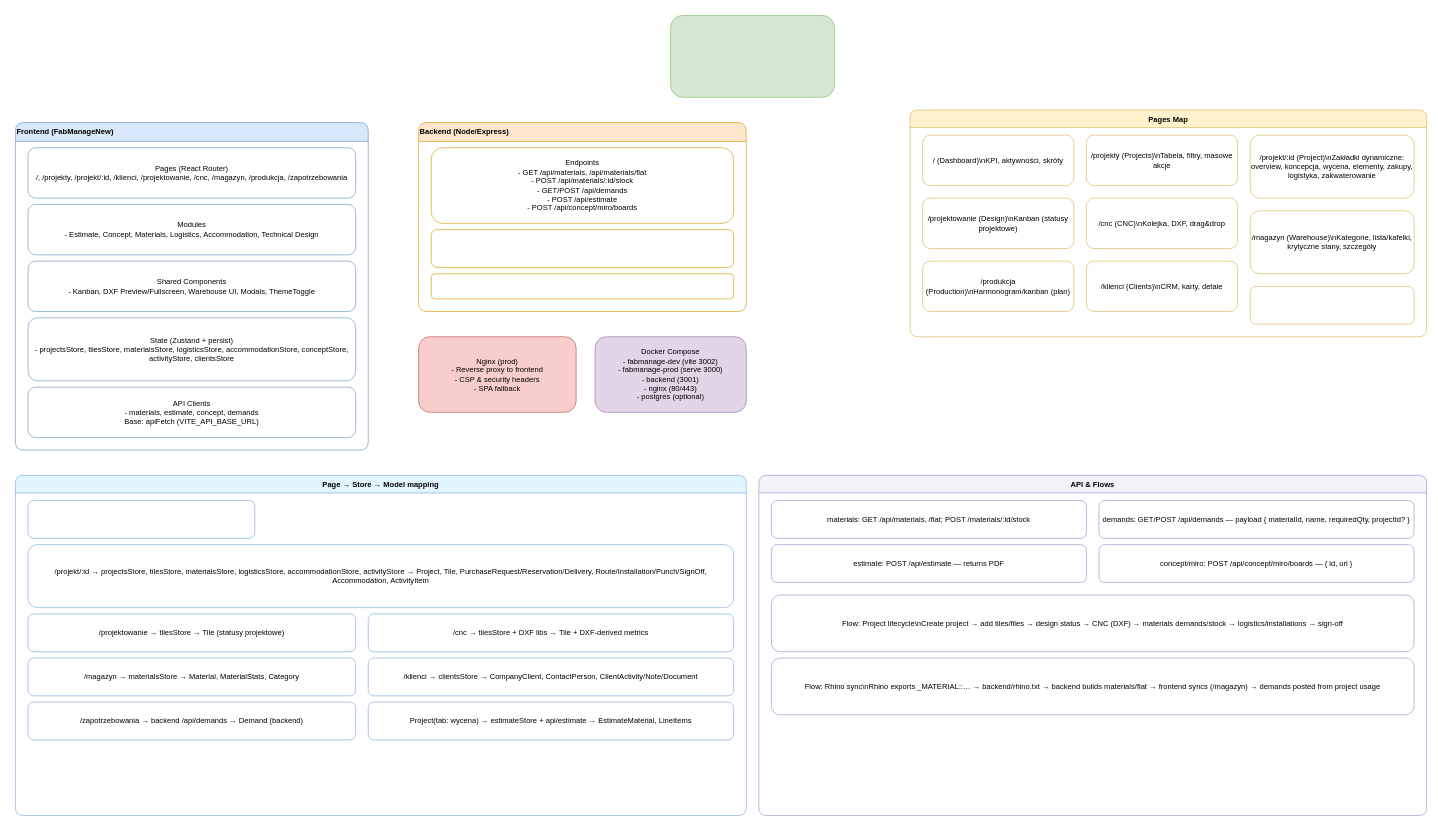
This 1438x827 diagram has some shape labels left out. Here are the shapes that lost their labels. From the top down, the centre of each, then its label:
the point at 752,56: Rhino Plugin - _MATERIAL::... - rhino.txt - POST /api/demands
the point at 582,248: Files - backend/rhino.txt - backend/stocks.json - backend/demands.json
the point at 582,286: DB (optional) - PostgreSQL (docker)
the point at 1332,305: /zapotrzebowania (Demands)\nLista zapotrzebowań
the point at 141,519: /projekty → projectsStore → Project
